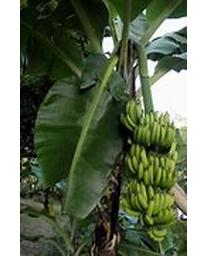banana: (121, 97, 180, 244)
